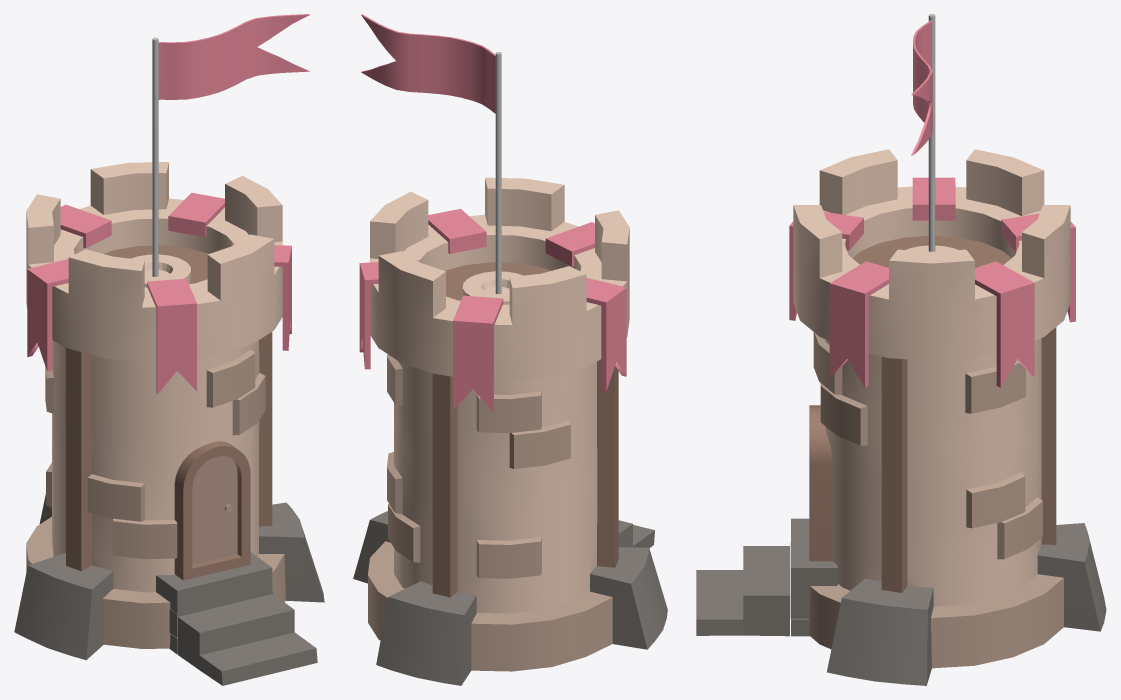
Rendered from Tower.fbx.
3 views of the same model, side by side, from view 1: azimuth 30°, elevation 25°; view 2: azimuth 150°, elevation 25°; view 3: azimuth 270°, elevation 25° (orthographic). The views are drawn at different scales.
Parts seen in each view (by area): view 1: Tower; view 2: Tower; view 3: Tower.
Boxes of the visible parts, <box> form: Tower: <box>14,14,324,685</box>; Tower: <box>353,14,667,685</box>; Tower: <box>696,14,1106,685</box>.
Size of the model in its own units: 46.55 by 85.29 by 53.3.
